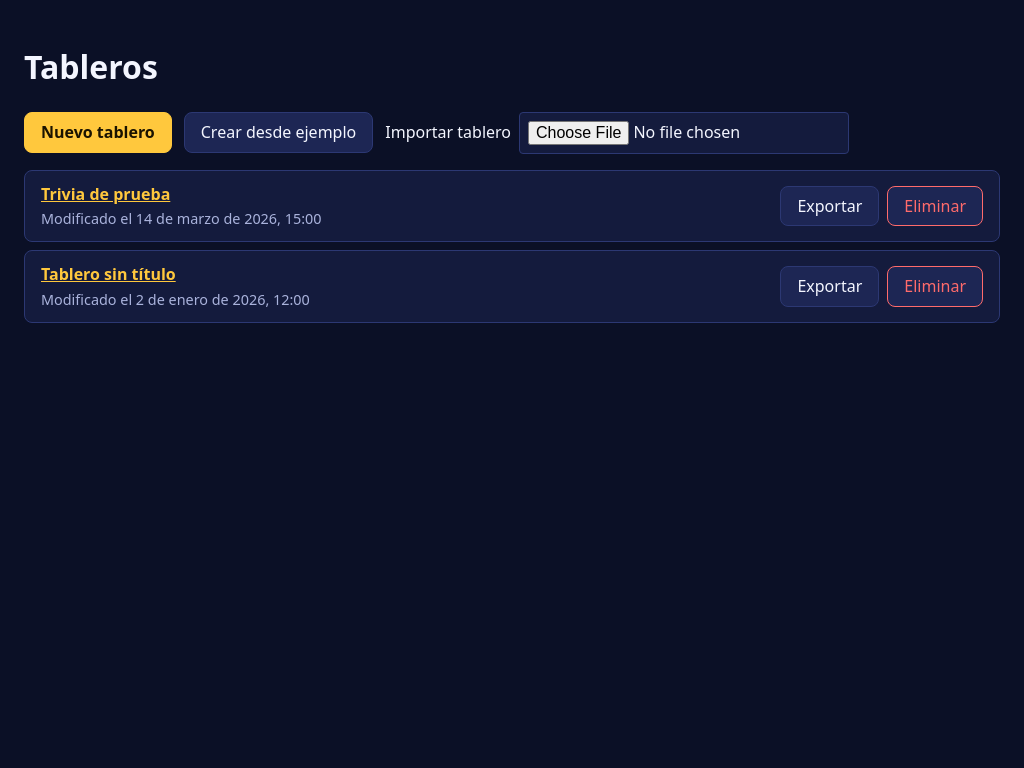
Test case: BoardListScreen › si la eliminación se guarda pero recargar la lista fallaría, igual la quita sin avisar error
This screenshot has width=1024, height=768.
Click the button with aria-label "Eliminar Trivia de prueba".
click(935, 206)  # box [887,186,983,226]
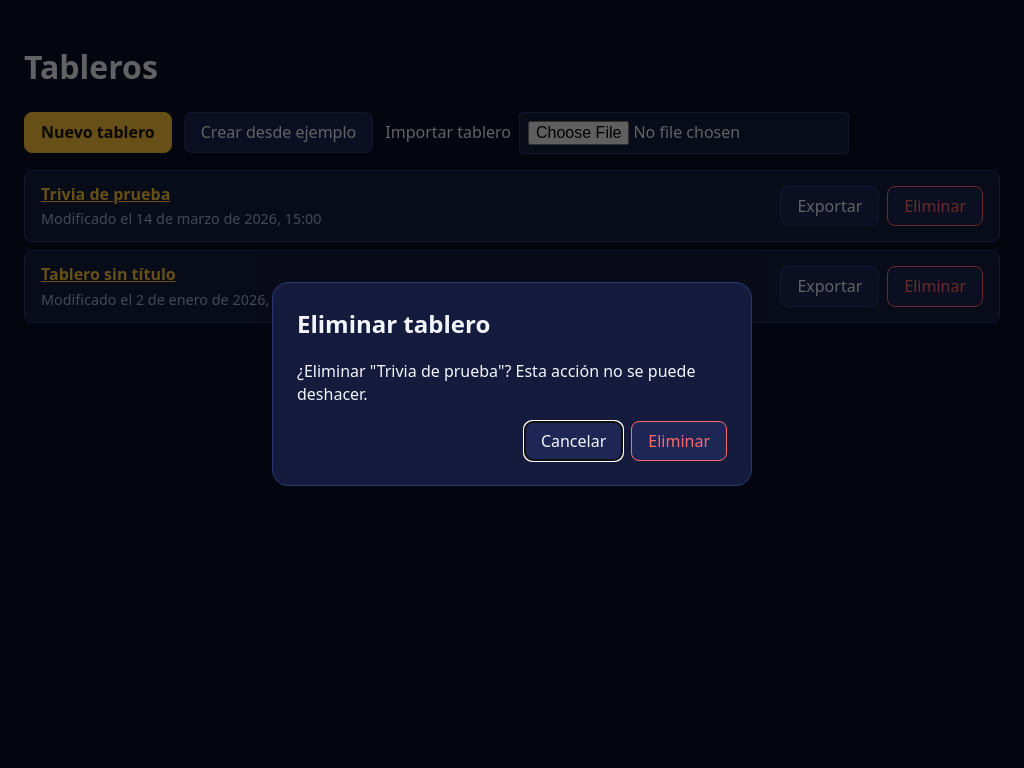
Click the button "Eliminar".
click(679, 441)  # box [631,421,727,461]
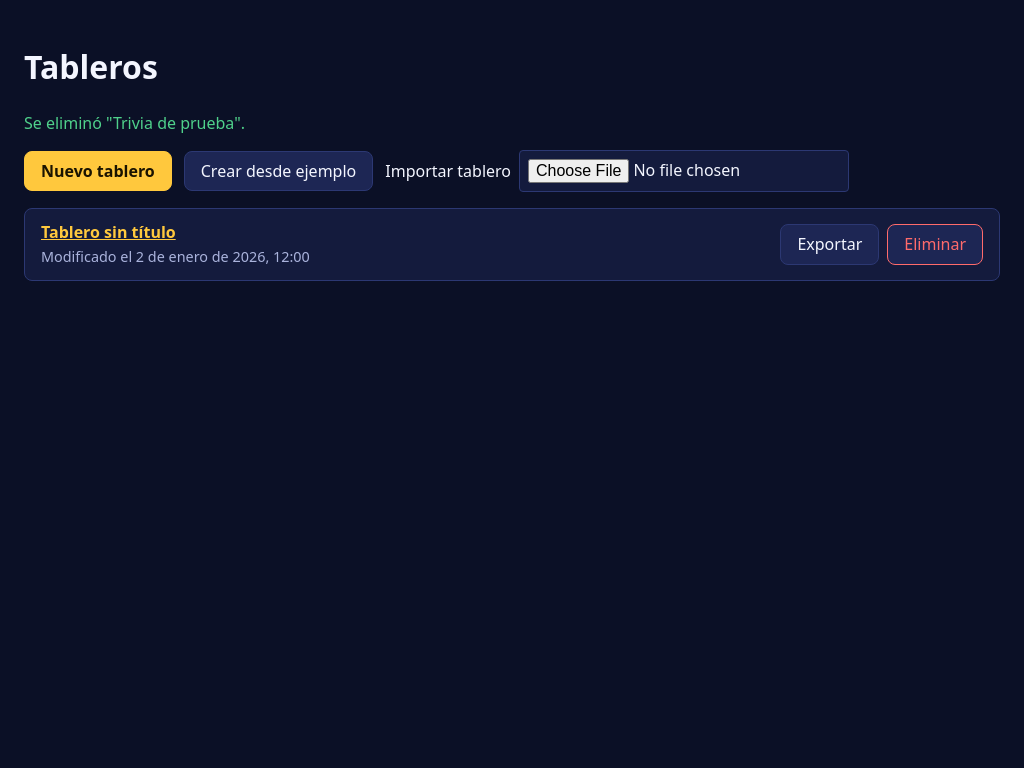
Expected: the link "Tablero sin título" is shown, [41,221,176,243]
Result: the message shows "Se eliminó \"Trivia de prueba\"" at [24,112,245,134]
